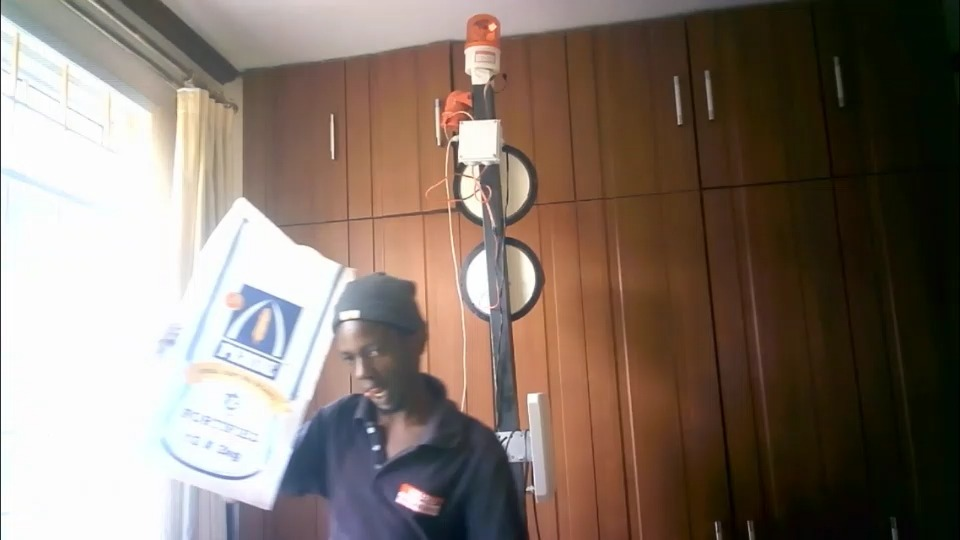wheat_flour_blue_label: (122, 198, 348, 509)
